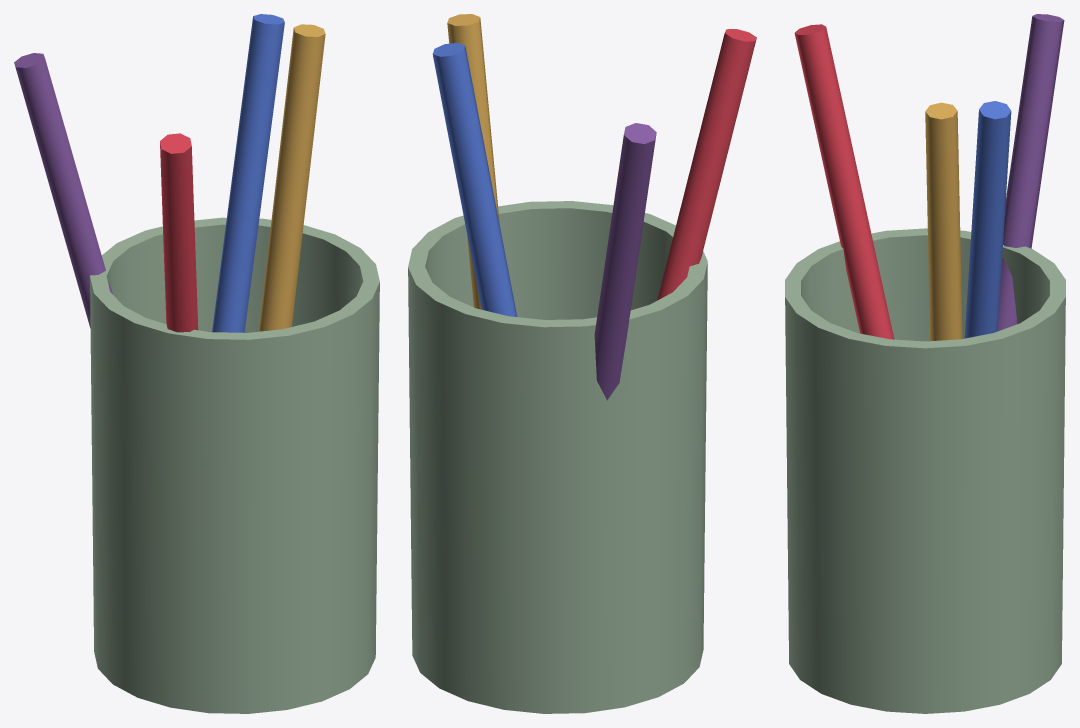
The model's file is pen_cup.fbx.
3 views of the same model, side by side, from view 1: azimuth 30°, elevation 25°; view 2: azimuth 150°, elevation 25°; view 3: azimuth 270°, elevation 25° (orthographic). The views are drawn at different scales.
Parts seen in each view (by area): view 1: pen_cup; view 2: pen_cup; view 3: pen_cup.
Part boxes in pixels (box(x1,y1,x2,y2)): pen_cup: box(14, 14, 379, 713); pen_cup: box(408, 14, 756, 713); pen_cup: box(785, 14, 1065, 713).
Bounding box in the file's own units: 0.0786 × 0.1595 × 0.0693.
